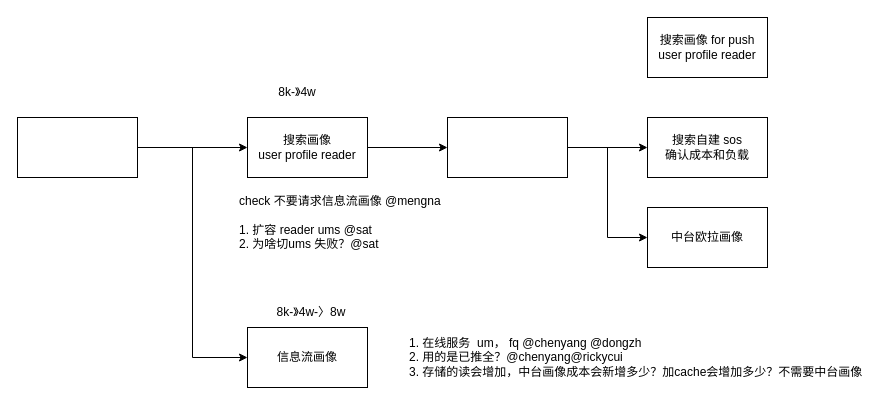
Image size: 895x410. Some labels were removed from this diagram. The shapes that lost their labels are listed below. From the top down, each one's box as (x1, y1, x2, y2) in pixels, then its label:
(16, 116, 138, 178): put online
(446, 116, 568, 178): ums
